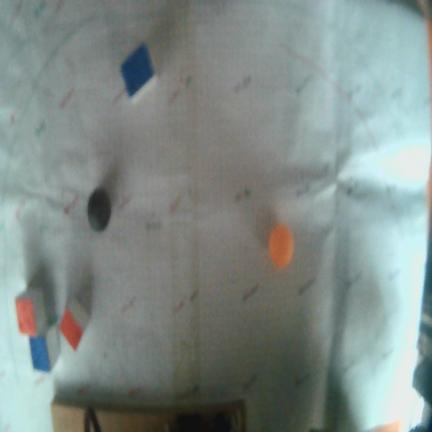circle_blue: (87, 188, 111, 230)
circle_orange: (267, 223, 294, 269)
rectangle_blue: (119, 39, 154, 98)
rectangle_orange: (57, 308, 84, 351)
square_blue: (28, 334, 51, 371)
square_orange: (13, 300, 37, 335)
